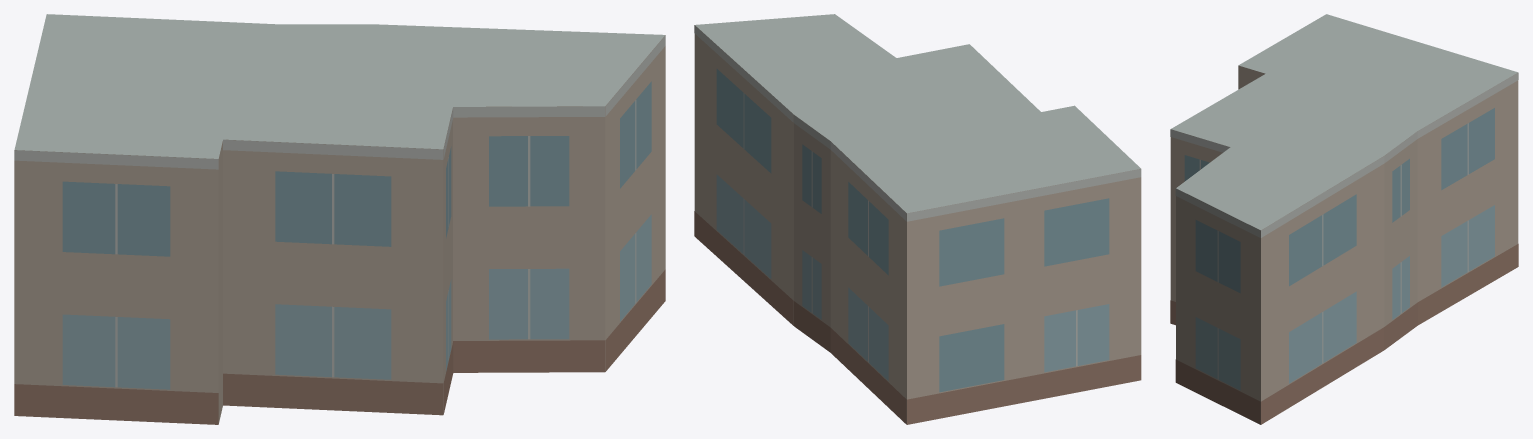
File: survey-upis-33031486.glb
The picture shows the model from 3 angles, left to right: view 1: azimuth 30°, elevation 25°; view 2: azimuth 150°, elevation 25°; view 3: azimuth 270°, elevation 25°; orthographic projection. The views are drawn at different scales.
Parts seen in each view (by area): view 1: survey-upis-33031486.tmp; view 2: survey-upis-33031486.tmp; view 3: survey-upis-33031486.tmp.
Part boxes in pixels (bbox=[...]): survey-upis-33031486.tmp: bbox=[14, 14, 665, 424]; survey-upis-33031486.tmp: bbox=[694, 14, 1141, 424]; survey-upis-33031486.tmp: bbox=[1170, 14, 1518, 424].
Bounding box in the file's own units: 14.57 × 6.1 × 9.9.
